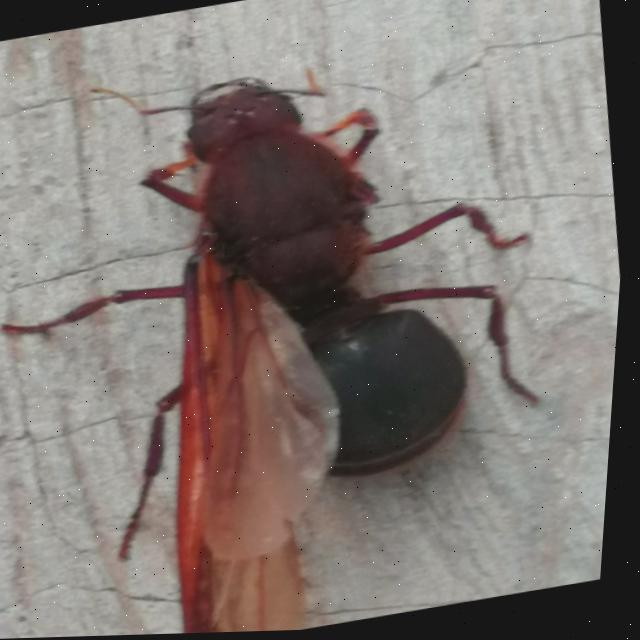Alive-Female-Alate: (0, 15, 596, 640)
